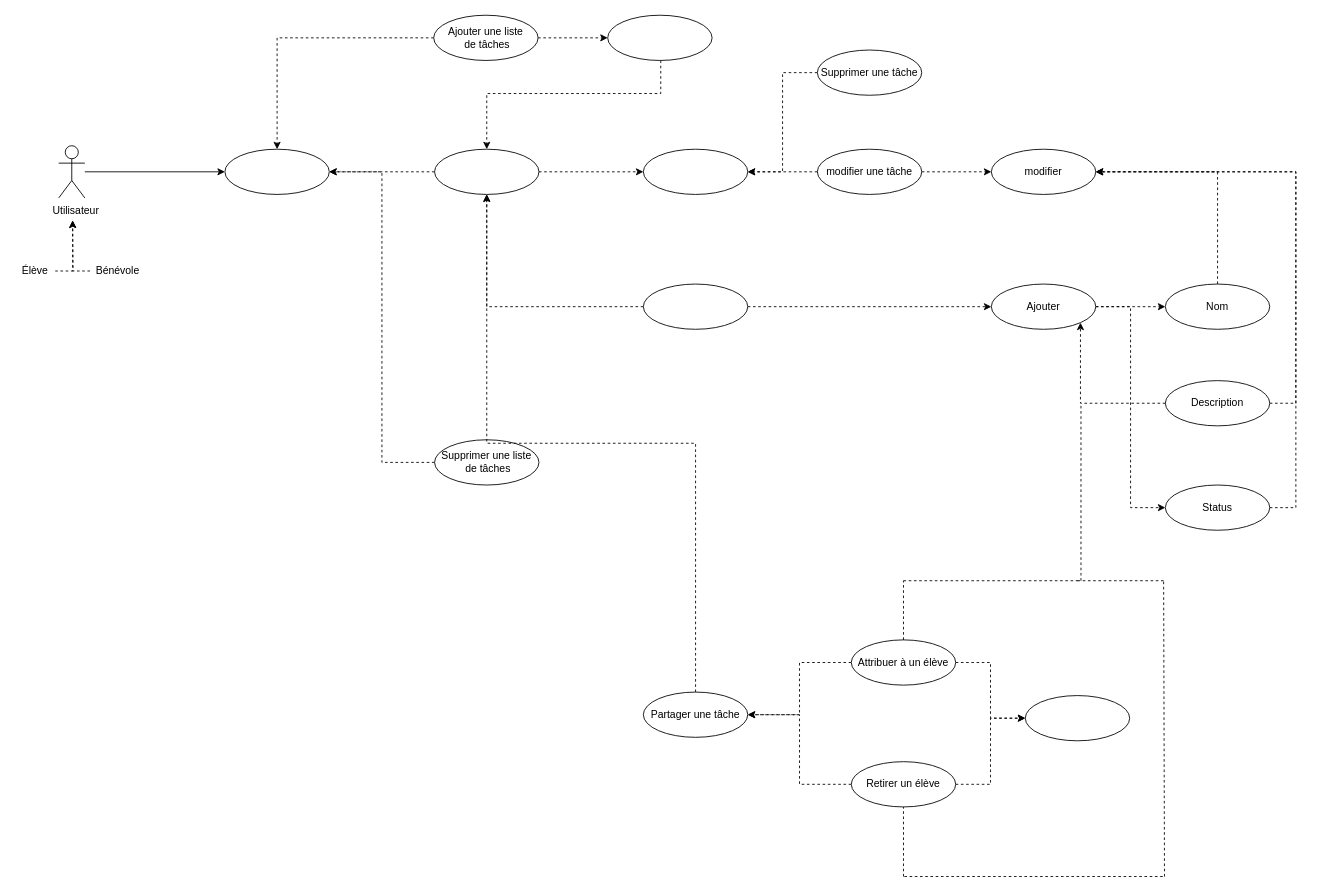
Image size: 1318x893. Some labels were removed from this diagram. The centre of each missing label's shape, as x and y in pixels:
"Ajouter une tâche" belongs at (695,306).
"Choisis un élève" belongs at (1077,718).
"Consulter les listes de tâches" belongs at (276,171).
"Consulter les tâches" belongs at (695,171).
"Consulter une liste de tâches" belongs at (486,171).
"Nommer la liste des tâches" belongs at (659,37).
